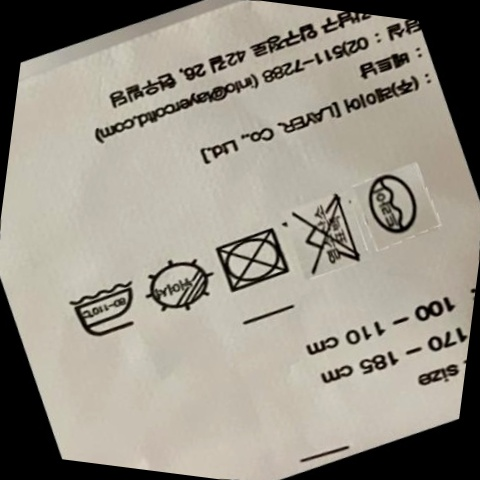DN_bleach: (289, 186, 366, 287)
DN_tumble_dry: (211, 217, 297, 305)
dry_clean: (359, 163, 434, 249)
dry_flat_in_shade: (142, 248, 218, 326)
tumble_dry_low: (62, 264, 150, 352)
